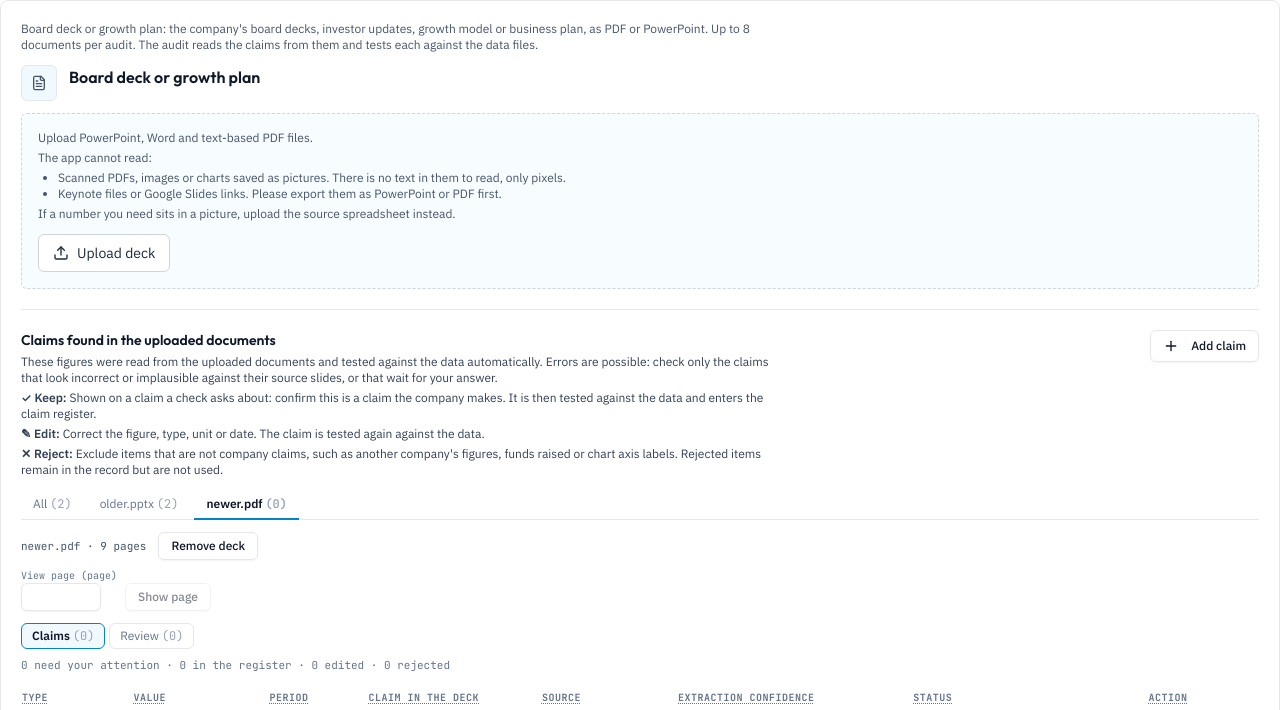
Scenario: a percentage on a mixed slide is Other and says so: mixed slide – check
The image size is (1280, 710).
Click the tab "All (2)" at (52, 505), box [21,490,84,520]
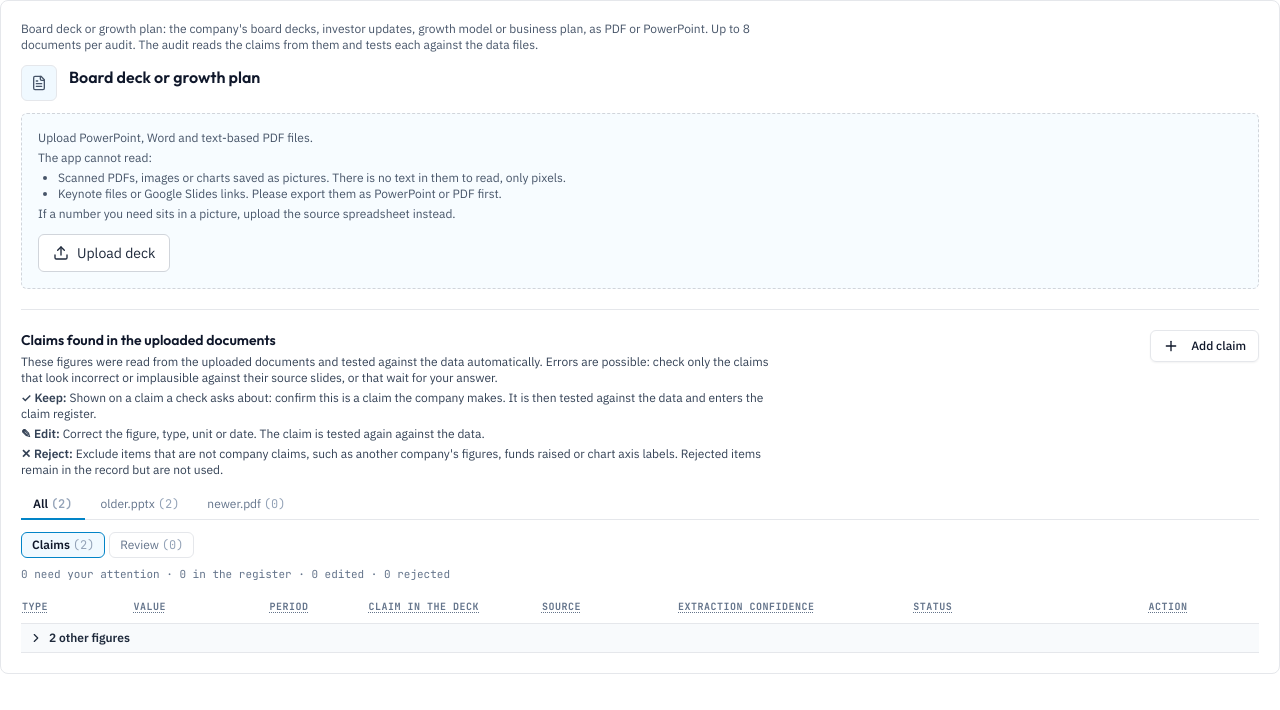
Click the button "2 other figures" at (79, 638), box [29,630,130,646]
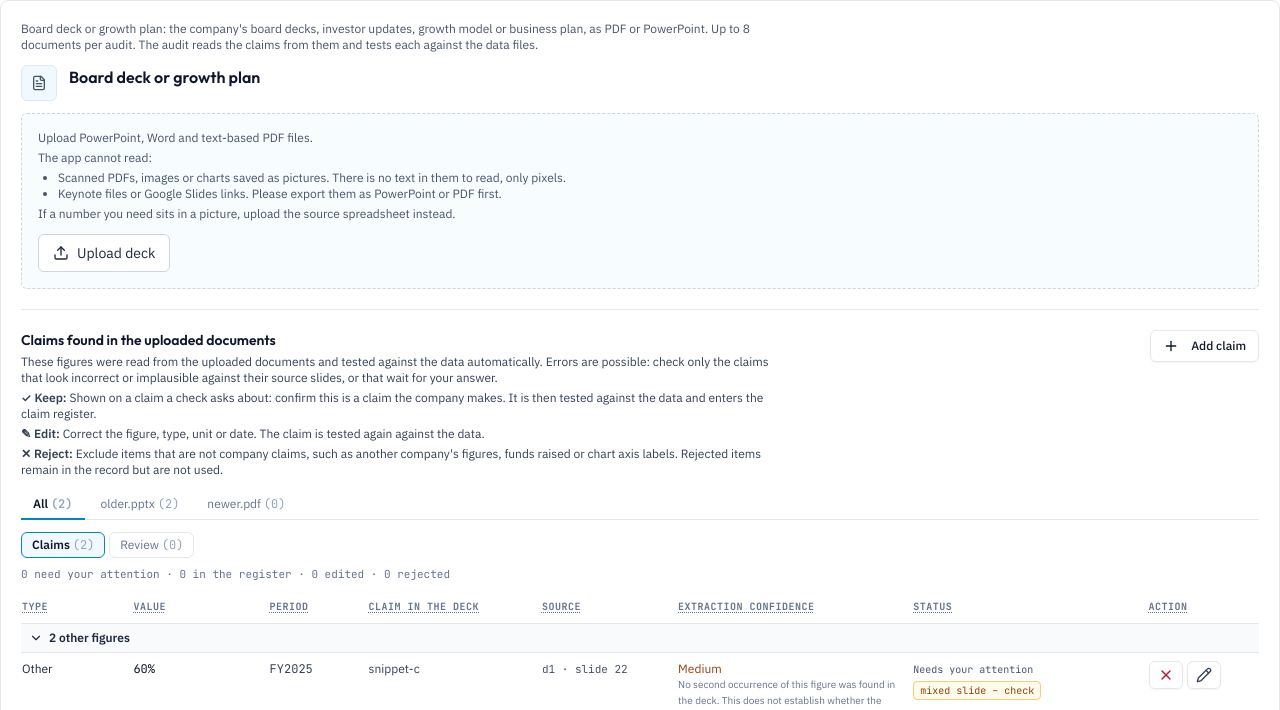
Now the number of elements with test id "candidate-mixed-slide" is 1, box [913,680,1041,700]
Now the text with test id "candidate-mixed-slide" reads "mixed slide – check", box [920,684,1034,696]
